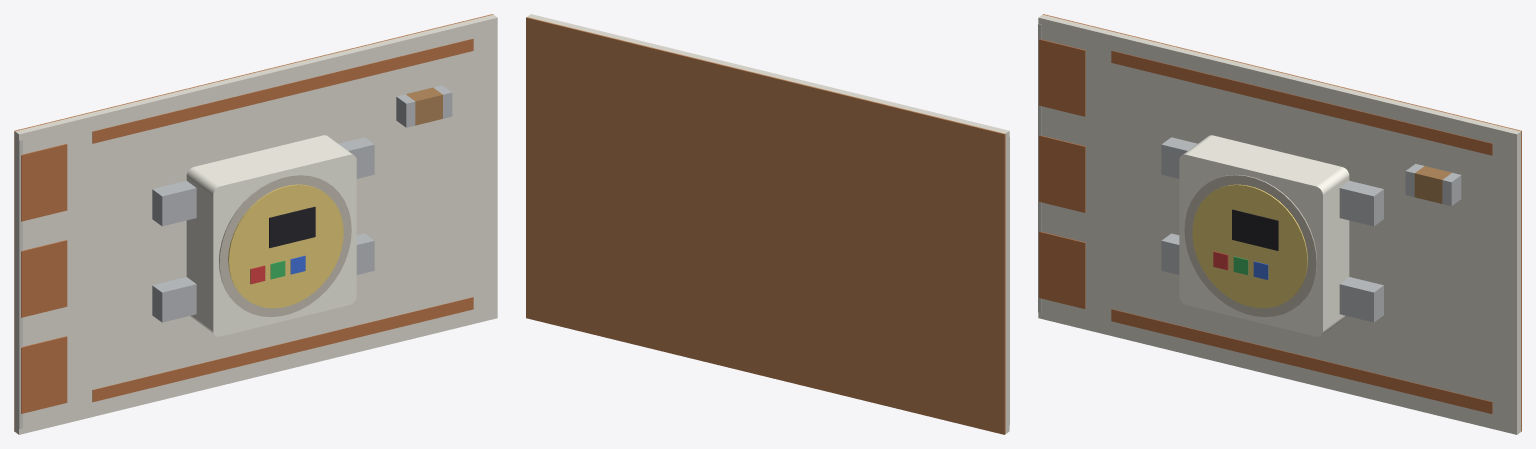
3 views of the same model, side by side, from view 1: azimuth 30°, elevation 25°; view 2: azimuth 150°, elevation 25°; view 3: azimuth 330°, elevation 25° (orthographic).
Visible parts, largest first — view 1: g0-plastic, g11-gold, g2-plastic, g4-glass, g9-metal, g3-plastic, g5-plastic, g1-metal, g10-plastic, g12-plastic; view 2: g1-metal, g0-plastic; view 3: g0-plastic, g11-gold, g2-plastic, g4-glass, g9-metal, g3-plastic, g5-plastic, g1-metal, g10-plastic, g12-plastic.
Boxes of the visible parts, left/top/right/bottom form: g0-plastic: left=15, top=14, right=497, bottom=434; g11-gold: left=21, top=38, right=473, bottom=413; g2-plastic: left=186, top=135, right=356, bottom=336; g4-glass: left=228, top=184, right=343, bottom=308; g9-metal: left=152, top=85, right=452, bottom=322; g3-plastic: left=219, top=174, right=351, bottom=317; g5-plastic: left=269, top=206, right=315, bottom=248; g1-metal: left=14, top=14, right=493, bottom=431; g10-plastic: left=406, top=87, right=442, bottom=125; g12-plastic: left=19, top=139, right=22, bottom=428; g1-metal: left=526, top=17, right=1005, bottom=434; g0-plastic: left=527, top=14, right=1009, bottom=433; g0-plastic: left=1038, top=14, right=1520, bottom=434; g11-gold: left=1039, top=39, right=1492, bottom=413; g2-plastic: left=1179, top=135, right=1349, bottom=336; g4-glass: left=1192, top=184, right=1307, bottom=308; g9-metal: left=1161, top=137, right=1461, bottom=322; g3-plastic: left=1184, top=174, right=1317, bottom=317; g5-plastic: left=1232, top=209, right=1278, bottom=250; g1-metal: left=1043, top=14, right=1521, bottom=431; g10-plastic: left=1414, top=166, right=1451, bottom=203; g12-plastic: left=1038, top=23, right=1041, bottom=313.
Bounding box in the file's own units: 16.67 × 10 × 2.01.
